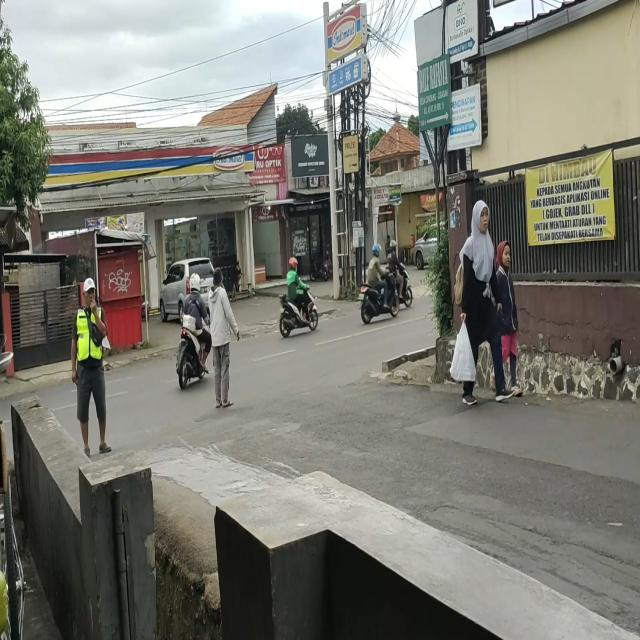helmet: (190, 272, 202, 292), (373, 243, 380, 257), (290, 258, 298, 270)
